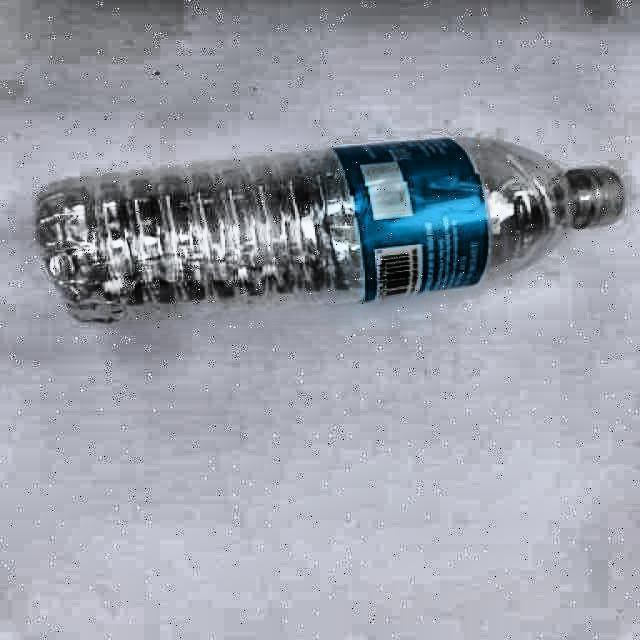plastic: (36, 138, 624, 321)
